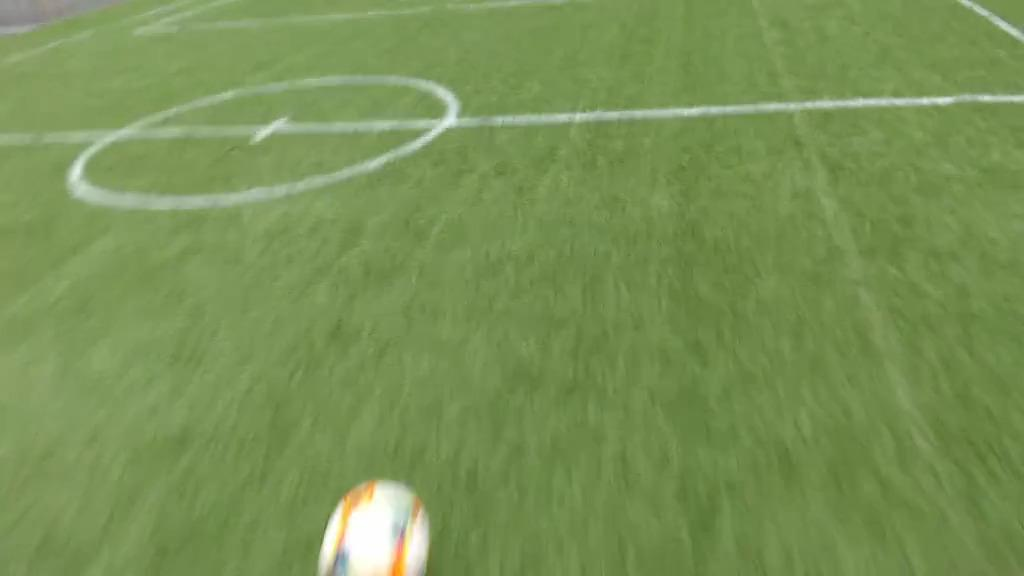ball: (320, 479, 428, 576)
